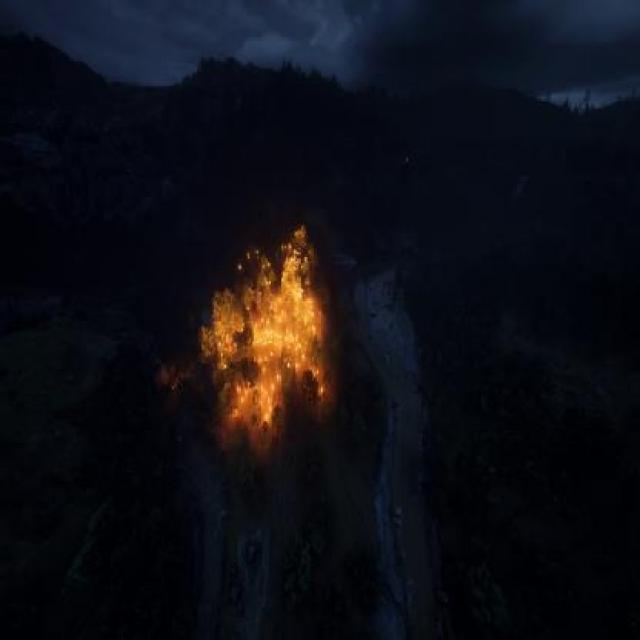Fire: (161, 211, 355, 464)
